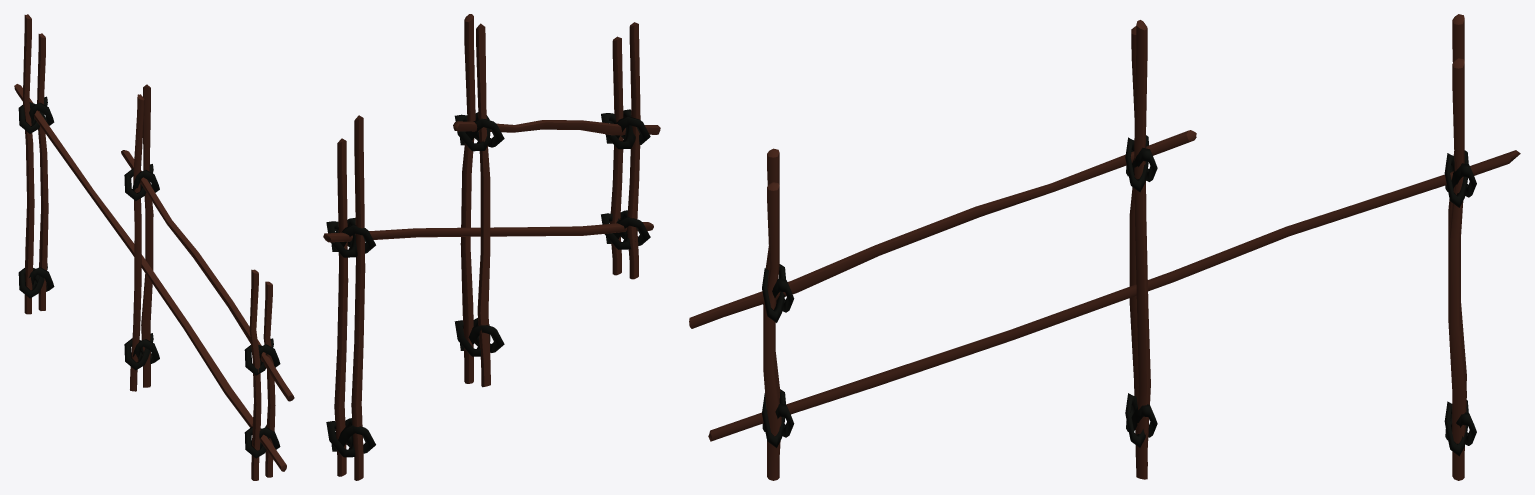
The model's file is revenant_pole_fence_begin_01.fbx.
The picture shows the model from 3 angles, left to right: view 1: azimuth 30°, elevation 25°; view 2: azimuth 150°, elevation 25°; view 3: azimuth 270°, elevation 25°; orthographic projection. The views are drawn at different scales.
Parts seen in each view (by area): view 1: Box023, Torus Knot014; view 2: Box023, Torus Knot014; view 3: Box023, Torus Knot014.
Boxes of the visible parts, left/top/right/bottom form: Box023: left=14, top=14, right=294, bottom=480; Torus Knot014: left=18, top=96, right=280, bottom=458; Box023: left=323, top=14, right=660, bottom=480; Torus Knot014: left=326, top=109, right=650, bottom=457; Box023: left=689, top=14, right=1520, bottom=480; Torus Knot014: left=762, top=135, right=1476, bottom=456.
Size of the model in its own units: 24.7 by 204 by 336.
